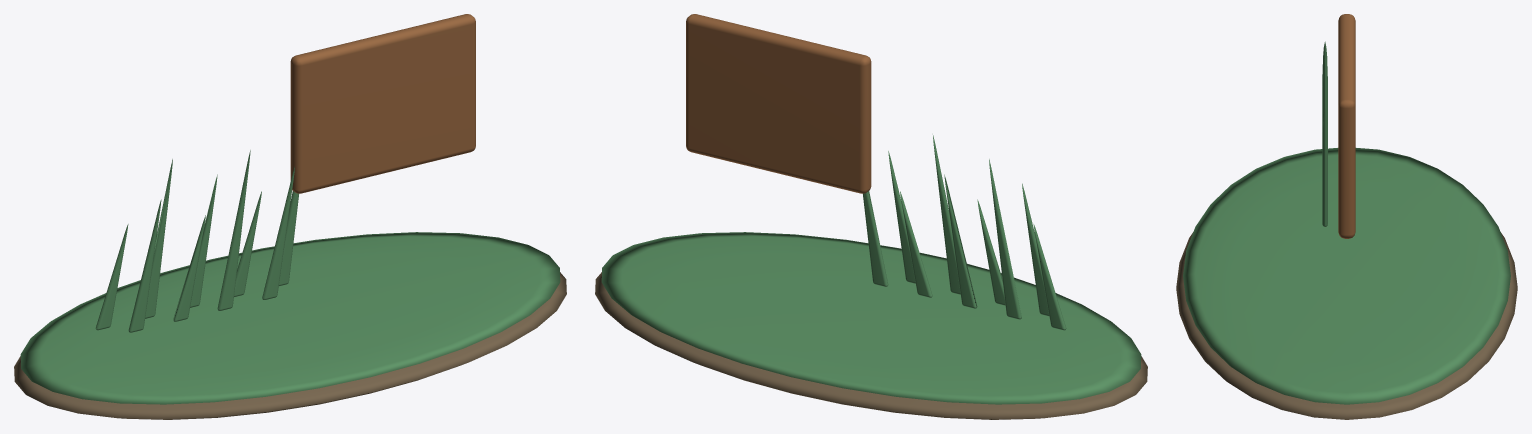
File: bitter-herbs.glb
3 views of the same model, side by side, from view 1: azimuth 30°, elevation 25°; view 2: azimuth 150°, elevation 25°; view 3: azimuth 270°, elevation 25° (orthographic). The views are drawn at different scales.
Parts seen in each view (by area): view 1: bitter-herbs_surface_01, bitter-herbs_surface_02, bitter-herbs_surface_00; view 2: bitter-herbs_surface_01, bitter-herbs_surface_02, bitter-herbs_surface_00; view 3: bitter-herbs_surface_01, bitter-herbs_surface_00, bitter-herbs_surface_02.
Part boxes in pixels (x1,y1,x2,y2): bitter-herbs_surface_01: (20, 150, 560, 404); bitter-herbs_surface_02: (290, 14, 475, 193); bitter-herbs_surface_00: (14, 272, 566, 419); bitter-herbs_surface_01: (601, 135, 1141, 404); bitter-herbs_surface_02: (686, 14, 871, 193); bitter-herbs_surface_00: (595, 272, 1147, 419); bitter-herbs_surface_01: (1183, 41, 1510, 404); bitter-herbs_surface_00: (1176, 232, 1517, 419); bitter-herbs_surface_02: (1338, 14, 1355, 238).
Size of the model in its own units: 4.56 by 2.37 by 2.5.
